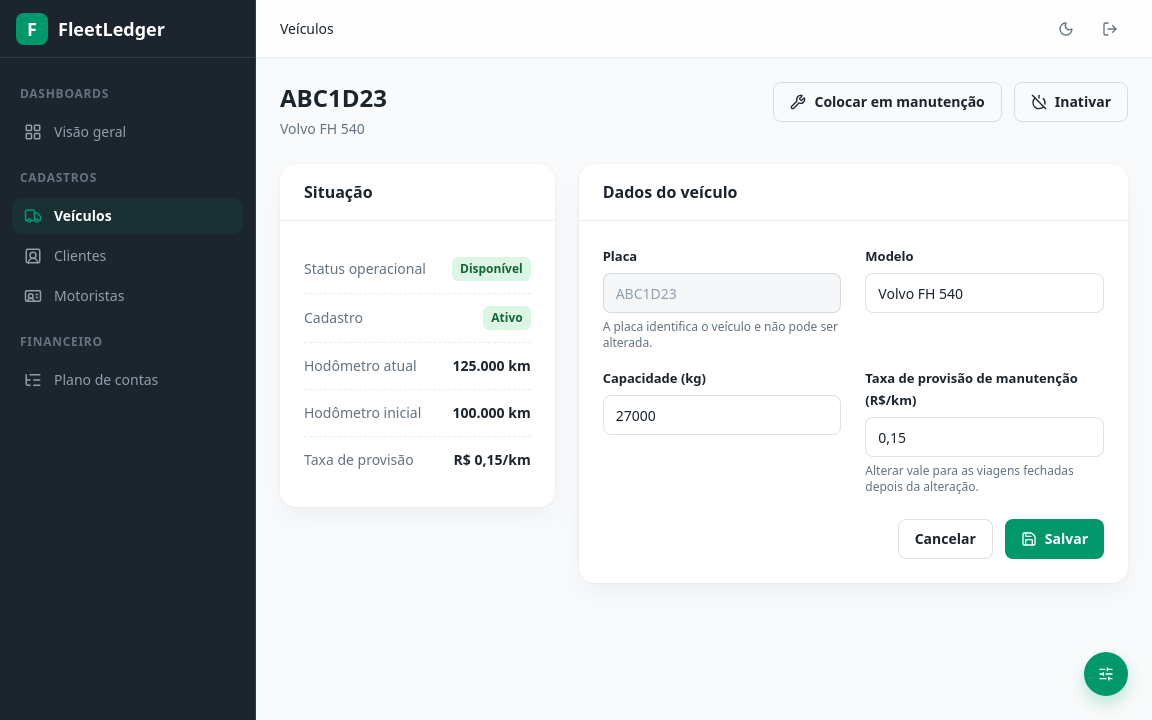
Test: VehicleDetailPage › shows the API refusal of a status change
Click the button "Colocar em manutenção": (888, 102) x1=774 y1=82 x2=1002 y2=122
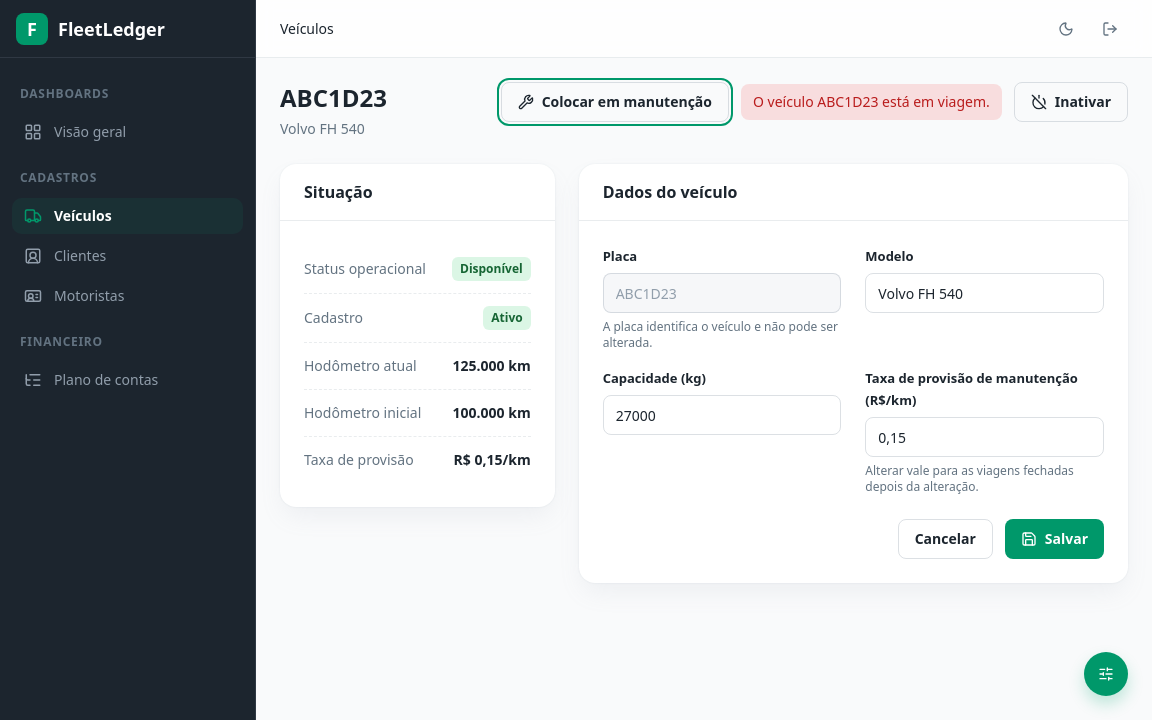
Now the message reads "O veículo ABC1D23 está em viagem.", box x1=753 y1=92 x2=990 y2=111
